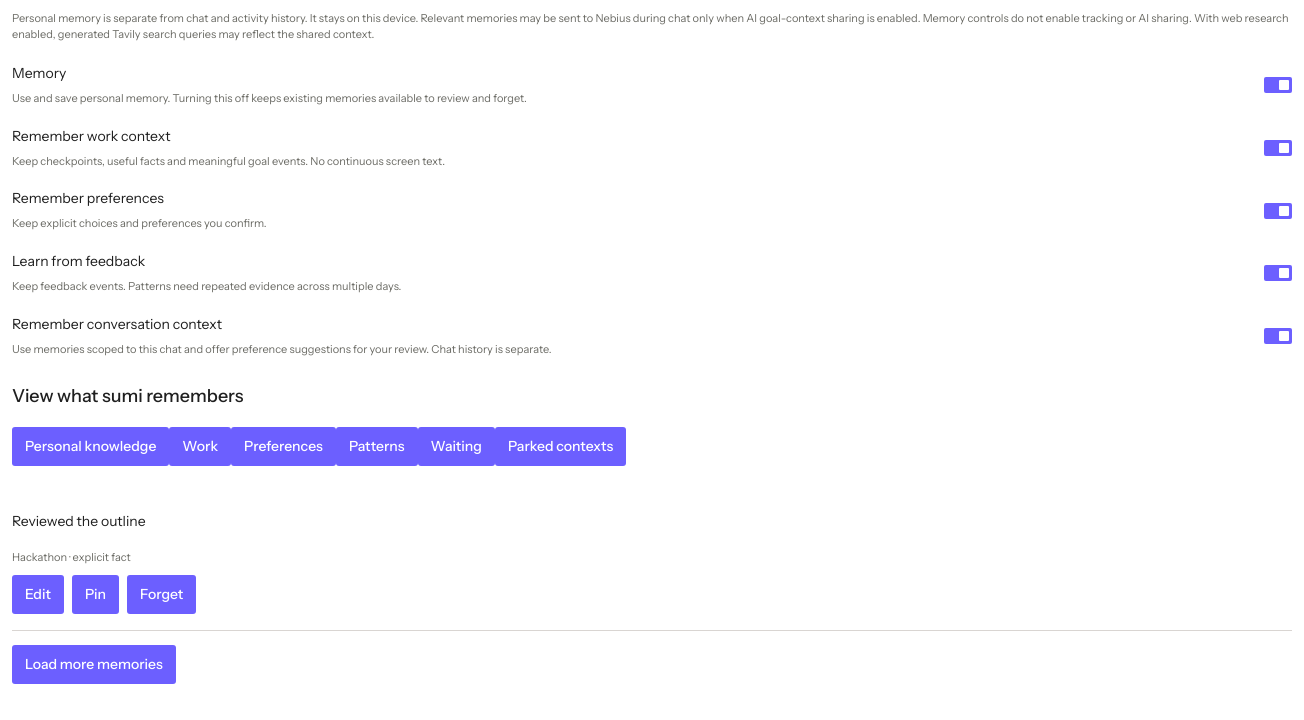
Test case: Memory settings › loads older pages without losing the current items
Click the button "Load more memories" at (94, 665), box [12,645,176,684]
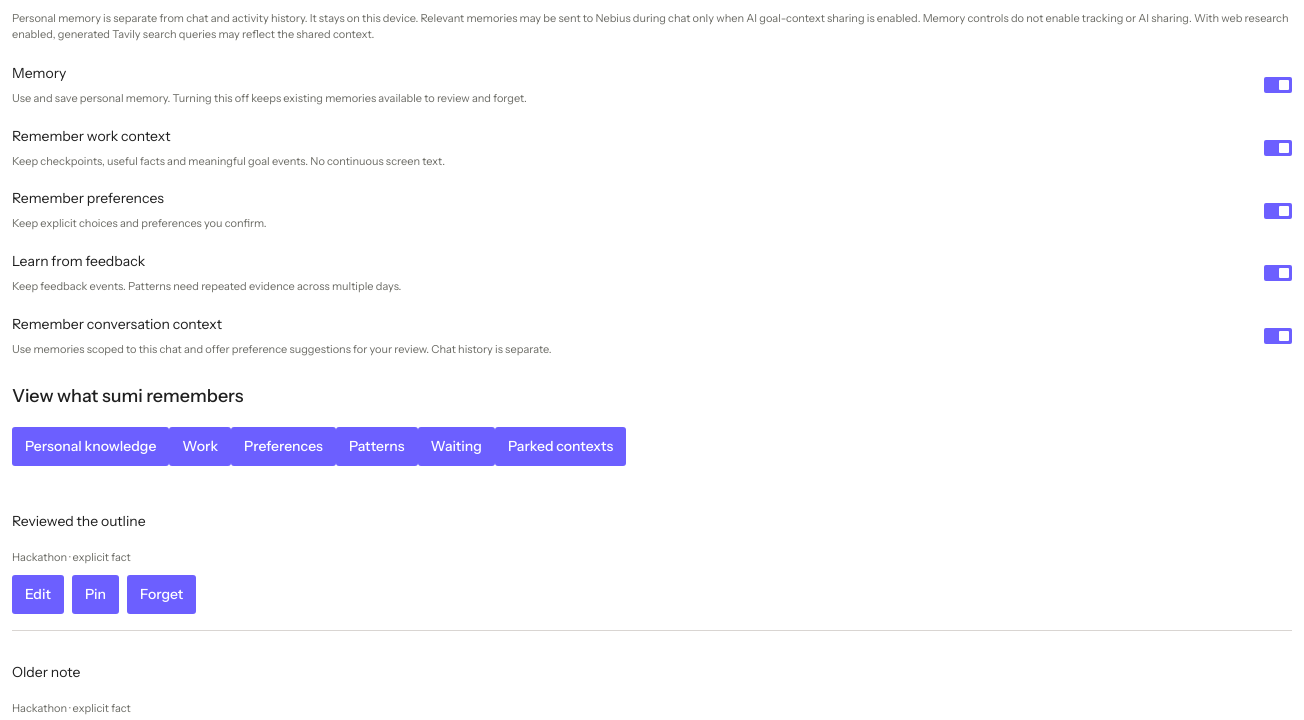
expect the text "Reviewed the outline" is shown: met, box [12,512,146,530]
expect the text "Older note" is shown: met, box [12,663,80,681]
